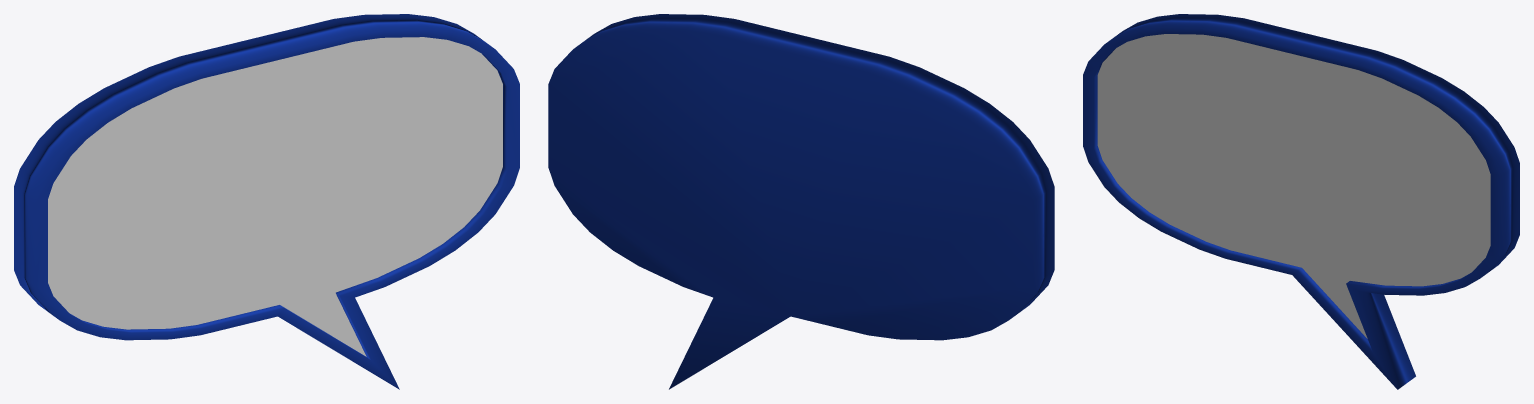
Rendered from speechbubble_sun.dae.
3 renders of one model, left to right at view 1: azimuth 30°, elevation 25°; view 2: azimuth 150°, elevation 25°; view 3: azimuth 330°, elevation 25°, orthographic. The views are drawn at different scales.
Parts seen in each view (by area): view 1: Cube_001, Cube; view 2: Cube; view 3: Cube_001, Cube.
Part boxes in pixels (x1=…): Cube_001: x1=48, y1=37, x2=502, y2=356; Cube: x1=14, y1=14, x2=519, y2=389; Cube: x1=548, y1=14, x2=1054, y2=389; Cube_001: x1=1097, y1=34, x2=1490, y2=338; Cube: x1=1083, y1=14, x2=1519, y2=389.
Bounding box in the file's own units: 3.79 × 0.2921 × 2.74.
